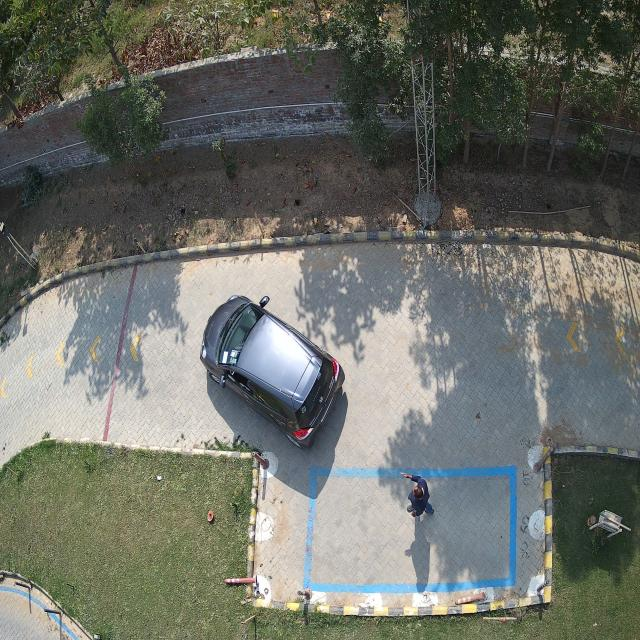car: (200, 295, 345, 448)
